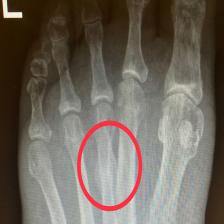stress-fracture: (16, 1, 213, 224)
